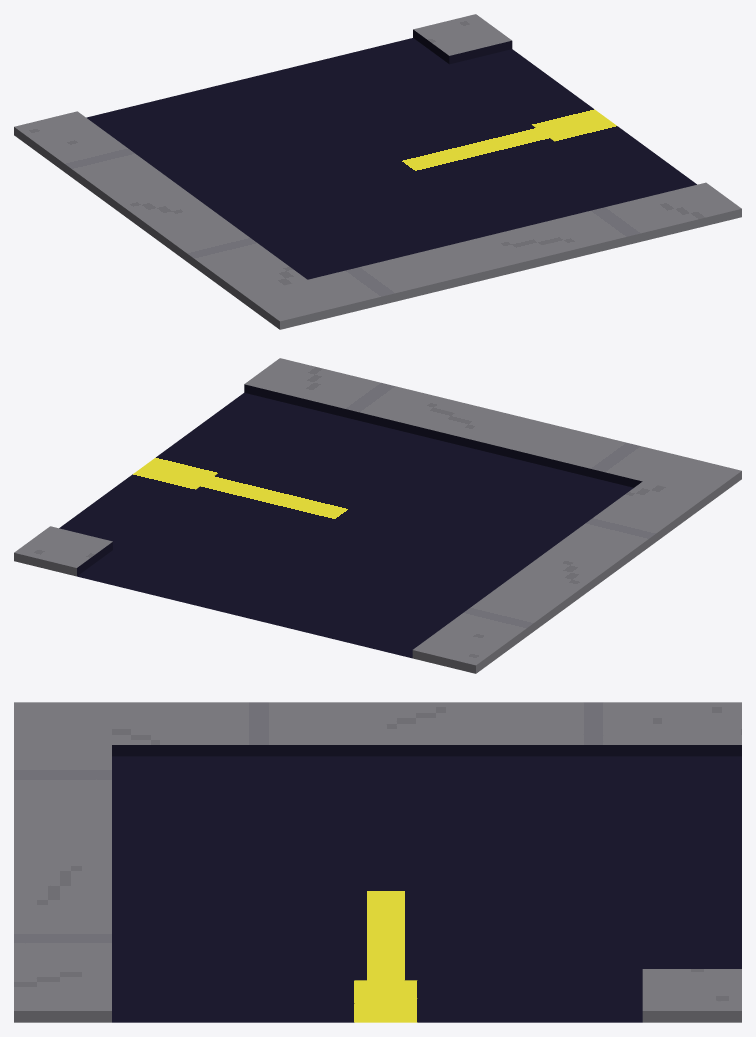
The model's file is road corner.fbx.
3 renders of one model, top to bottom at view 1: azimuth 30°, elevation 25°; view 2: azimuth 150°, elevation 25°; view 3: azimuth 270°, elevation 25°, orthographic. The views are drawn at different scales.
Parts seen in each view (by area): view 1: Plane; view 2: Plane; view 3: Plane.
Part boxes in pixels (x1=…): Plane: x1=14, y1=14, x2=741, y2=329; Plane: x1=14, y1=358, x2=741, y2=673; Plane: x1=14, y1=702, x2=741, y2=1022.
Bounding box in the file's own units: 195 × 3.41 × 195.
Materials: 1 (1 with a texture image).
